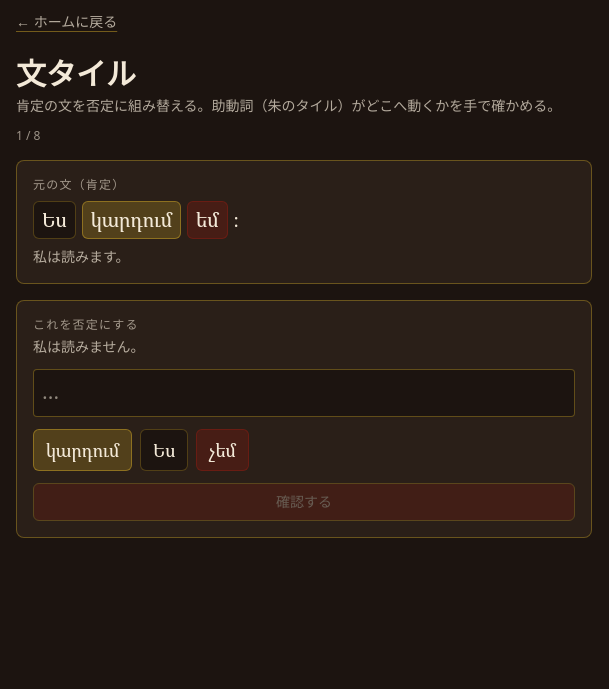
Scenario: SentenceTiles › accepts the negative order with the auxiliary in front and explains the flip (L07)
Click the button "Ես" at (164, 450), box [140,429,188,471]
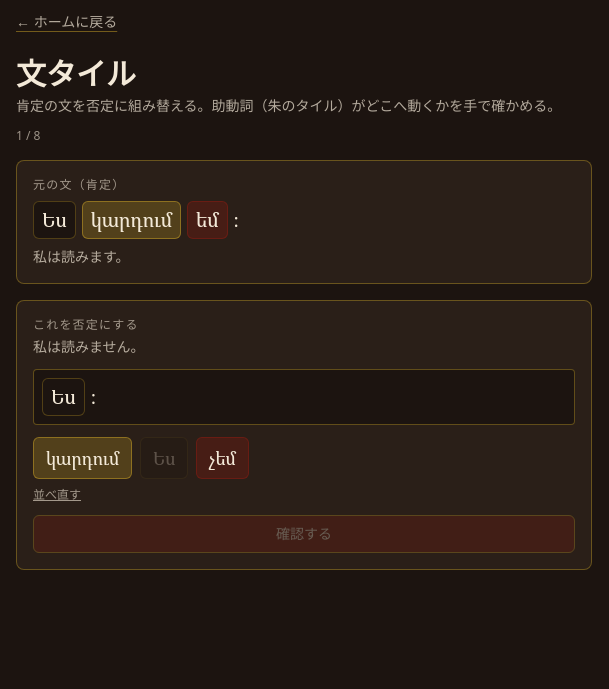
Click the button "չեմ" at (223, 458), box [196,437,249,479]
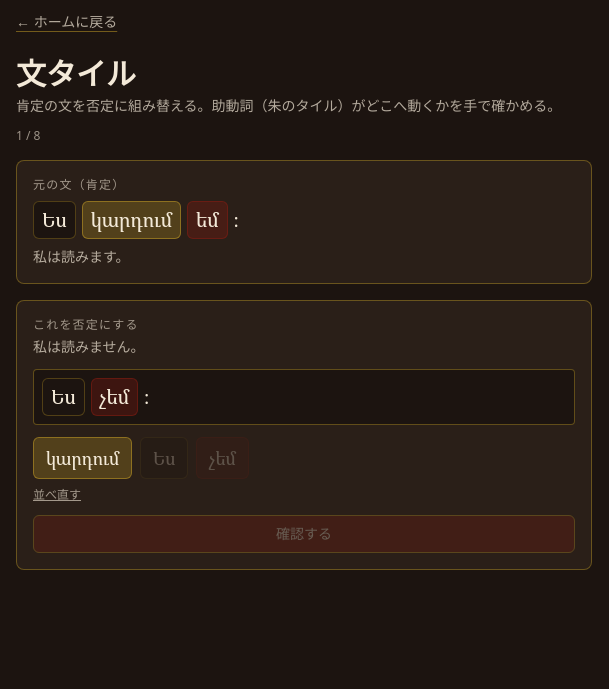
Click the button "կարդում" at (83, 458), box [33,437,132,479]
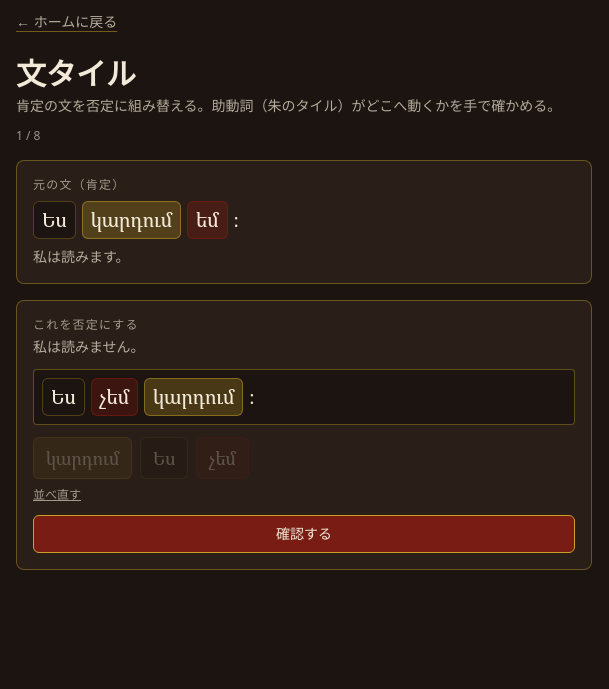
Click the button "確認する" at (304, 534), box [33,515,575,553]
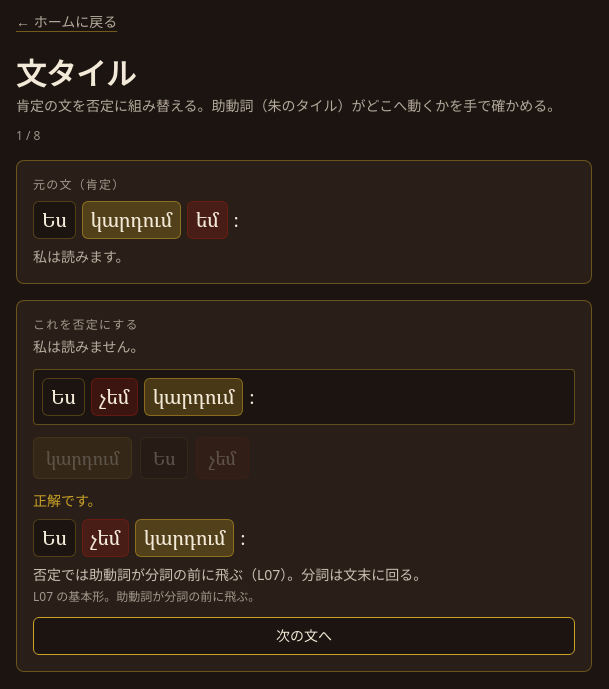
Now the text "正解です。" is shown, box [33,491,102,510]
Now the text "否定では助動詞が分詞の前に飛ぶ（L07）。分詞は文末に回る。" is shown, box [33,565,427,584]
